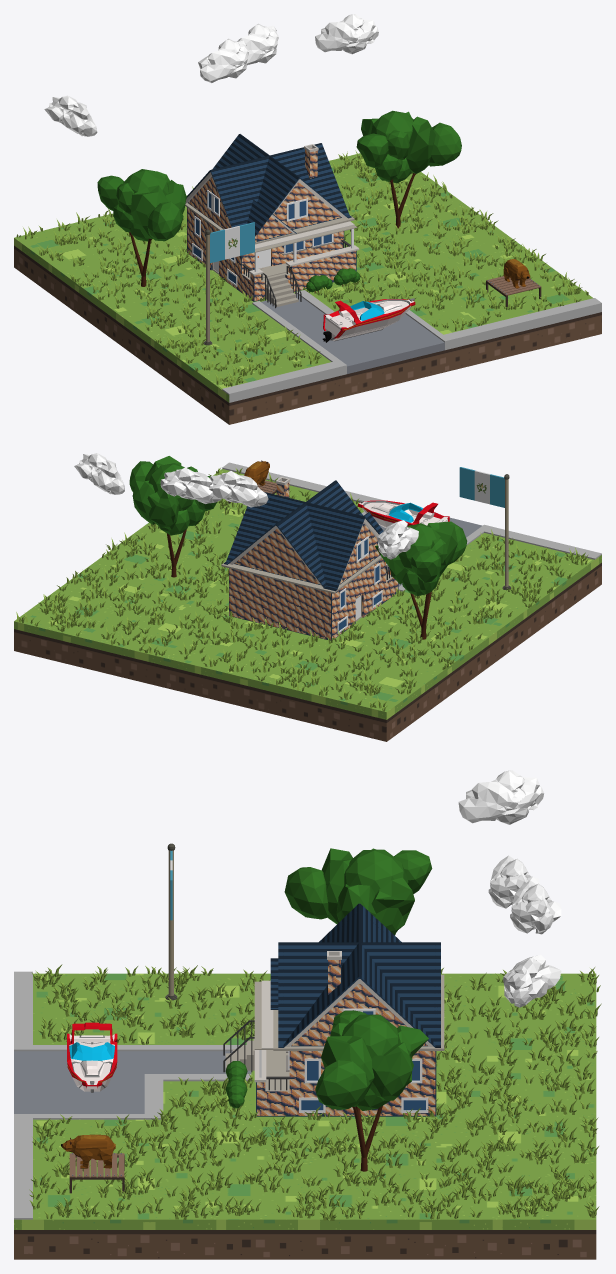
The picture shows the model from 3 angles, top to bottom: view 1: azimuth 30°, elevation 25°; view 2: azimuth 150°, elevation 25°; view 3: azimuth 270°, elevation 25°; orthographic projection. The views are drawn at different scales.
Visible parts, largest first — view 1: Cube.006, Cube.430, Circle.012_Grass_0.192, Cube.007, tree, tree.001, VEHICLES_BOAT, OBJRANDOM_GUATEMALAN_FLAG, Cube.009, ANIMAL_OSO; view 2: Cube.006, Cube.430, Circle.012_Grass_0.192, Cube.007, tree.001, tree, OBJRANDOM_GUATEMALAN_FLAG, VEHICLES_BOAT, ANIMAL_OSO; view 3: Cube.006, Circle.012_Grass_0.192, Cube.430, tree, Cube.007, tree.001, VEHICLES_BOAT, Cube.009, ANIMAL_OSO, OBJRANDOM_GUATEMALAN_FLAG.
Part boxes in pixels (x1,y1,x2,y2): Cube.006: (14,153,601,424); Cube.430: (185,134,359,308); Circle.012_Grass_0.192: (16,150,588,386); Cube.007: (44,14,378,136); tree: (356,110,461,228); tree.001: (97,169,186,286); VEHICLES_BOAT: (322,298,415,342); OBJRANDOM_GUATEMALAN_FLAG: (203,222,254,345); Cube.009: (486,276,541,306); ANIMAL_OSO: (503,259,530,288); Cube.006: (14,462,601,741); Cube.430: (221,477,398,640); Circle.012_Grass_0.192: (16,468,588,711); Cube.007: (74,453,418,559); tree.001: (375,521,467,639); tree: (129,456,216,577); OBJRANDOM_GUATEMALAN_FLAG: (459,467,511,590); VEHICLES_BOAT: (358,500,449,527); ANIMAL_OSO: (244,460,269,485); Cube.006: (14,971,596,1259); Circle.012_Grass_0.192: (29,964,601,1220); Cube.430: (223,903,444,1116); tree: (315,1010,428,1171); Cube.007: (458,770,561,1007); tree.001: (284,848,432,935); VEHICLES_BOAT: (67,1022,117,1092); Cube.009: (69,1153,124,1193); ANIMAL_OSO: (61,1134,115,1168); OBJRANDOM_GUATEMALAN_FLAG: (165,843,177,1000).
Size of the model in its own units: 4071 by 2126 by 4040.
Materials: 36 (5 with a texture image).
